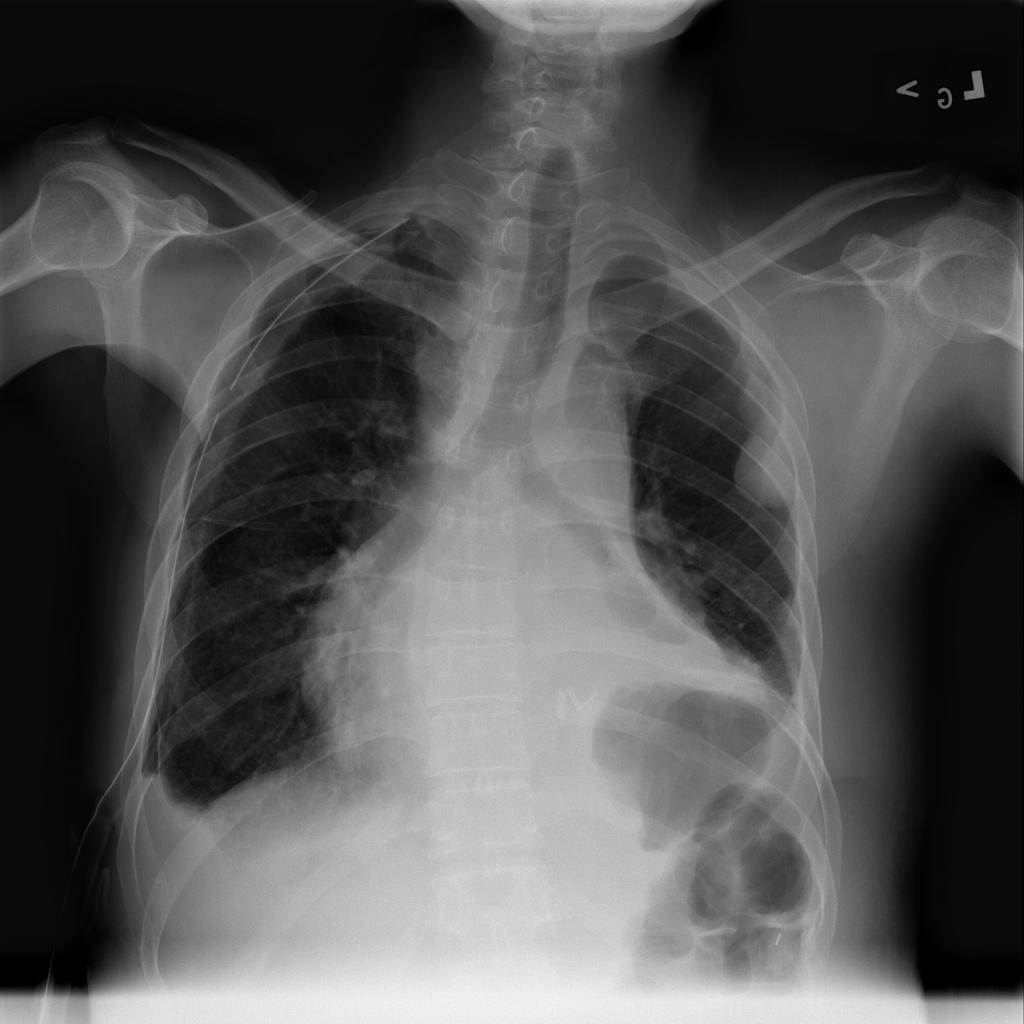nodule: (721, 404, 818, 521)
